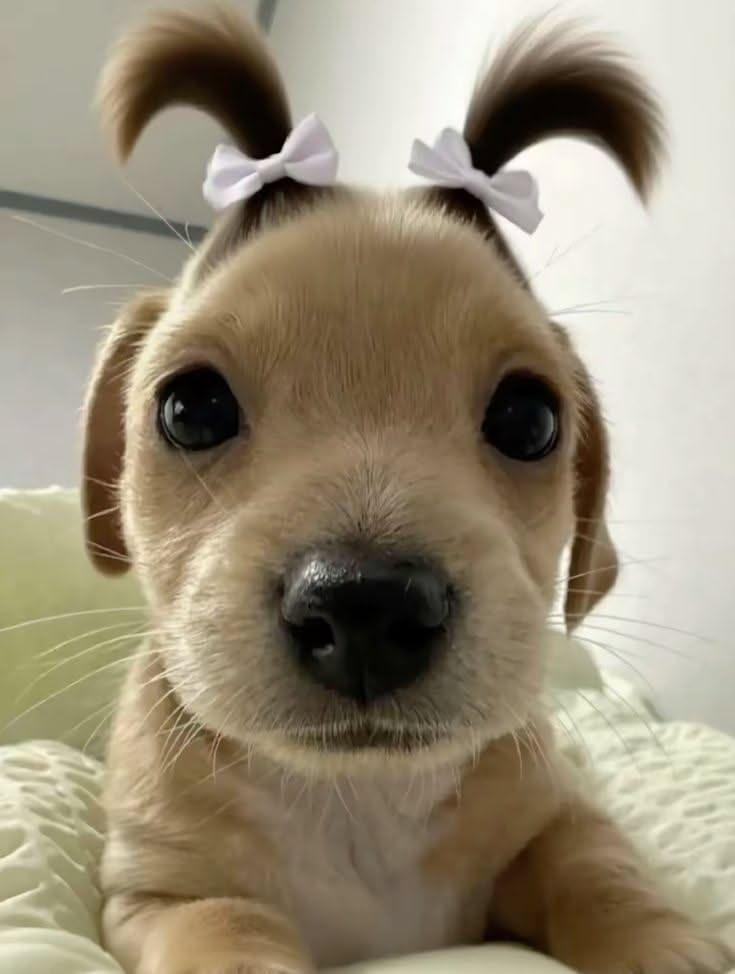puppy-dog: (72, 0, 735, 974)
